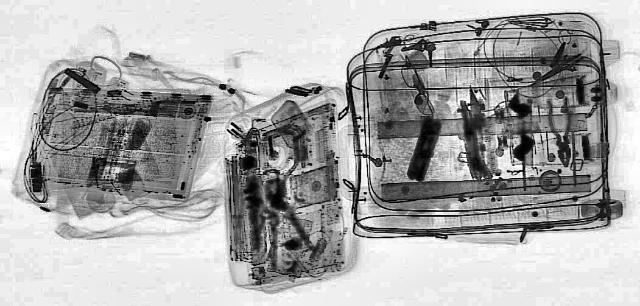Pliers: (542, 97, 580, 167)
